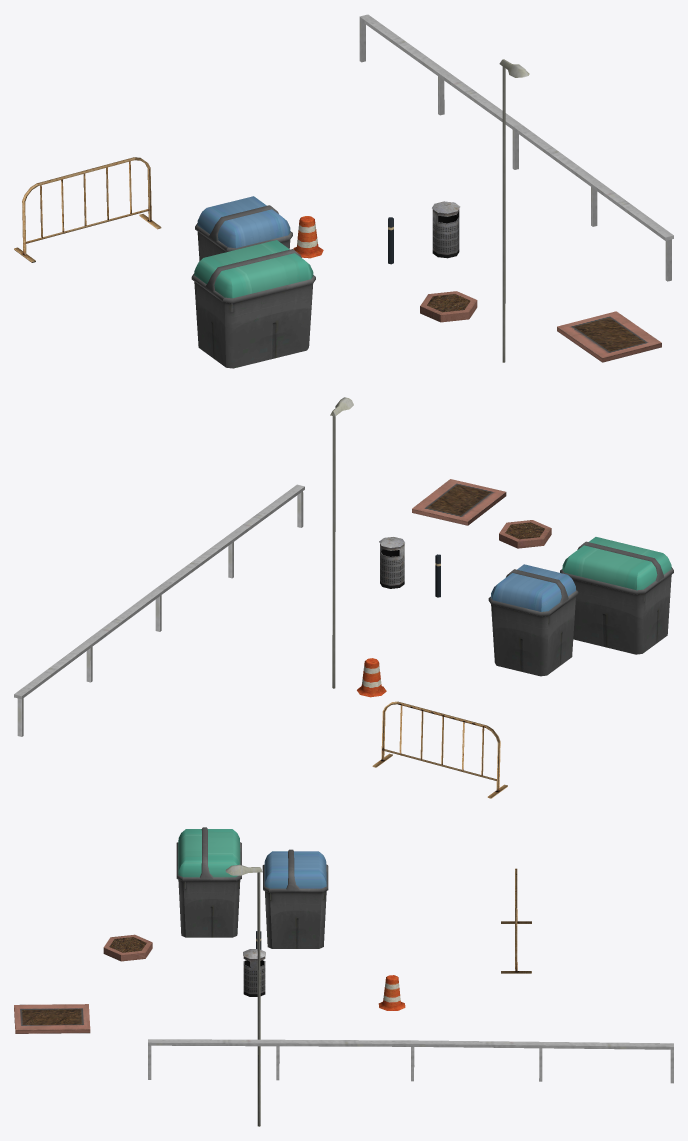
File: seasideprop.fbx
3 views of the same model, one above another, from view 1: azimuth 30°, elevation 25°; view 2: azimuth 150°, elevation 25°; view 3: azimuth 270°, elevation 25° (orthographic). The views are drawn at different scales.
Parts seen in each view (by area): view 1: lajixiang2, luzhang2, lajixiang1, huapen1, luzhang4, lajitong, ludeng, huapen2, luzhang3; view 2: lajixiang2, lajixiang1, luzhang2, huapen1, luzhang4, ludeng, lajitong, huapen2, luzhang3; view 3: lajixiang2, lajixiang1, luzhang2, huapen1, ludeng, huapen2, lajitong, luzhang3, luzhang4.
Part boxes in pixels (<box>): lajixiang2: <box>191,240,315,368</box>; luzhang2: <box>359,14,673,281</box>; lajixiang1: <box>195,196,292,260</box>; huapen1: <box>557,311,661,362</box>; luzhang4: <box>14,157,161,262</box>; lajitong: <box>432,201,460,258</box>; ludeng: <box>499,59,529,362</box>; huapen2: <box>420,291,477,322</box>; luzhang3: <box>293,216,323,258</box>; lajixiang2: <box>560,537,673,654</box>; lajixiang1: <box>488,564,578,676</box>; luzhang2: <box>14,484,304,736</box>; huapen1: <box>412,479,506,525</box>; luzhang4: <box>372,701,507,798</box>; ludeng: <box>330,397,353,688</box>; lajitong: <box>379,537,404,588</box>; huapen2: <box>499,520,551,548</box>; luzhang3: <box>357,658,386,697</box>; lajixiang2: <box>176,827,241,937</box>; lajixiang1: <box>262,849,328,948</box>; luzhang2: <box>148,1039,673,1083</box>; huapen1: <box>14,1004,90,1033</box>; ludeng: <box>225,864,262,1126</box>; huapen2: <box>103,934,152,961</box>; lajitong: <box>243,949,265,996</box>; luzhang3: <box>378,975,405,1010</box>; luzhang4: <box>501,868,531,973</box>.
Size of the model in its own units: 11.55 by 7.69 by 17.62.
1 material, 1 textured.
